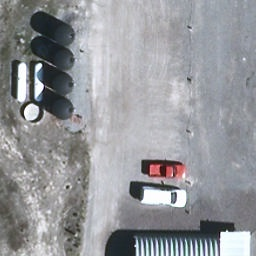car: (141, 188, 188, 210)
pickup: (148, 165, 187, 179)
